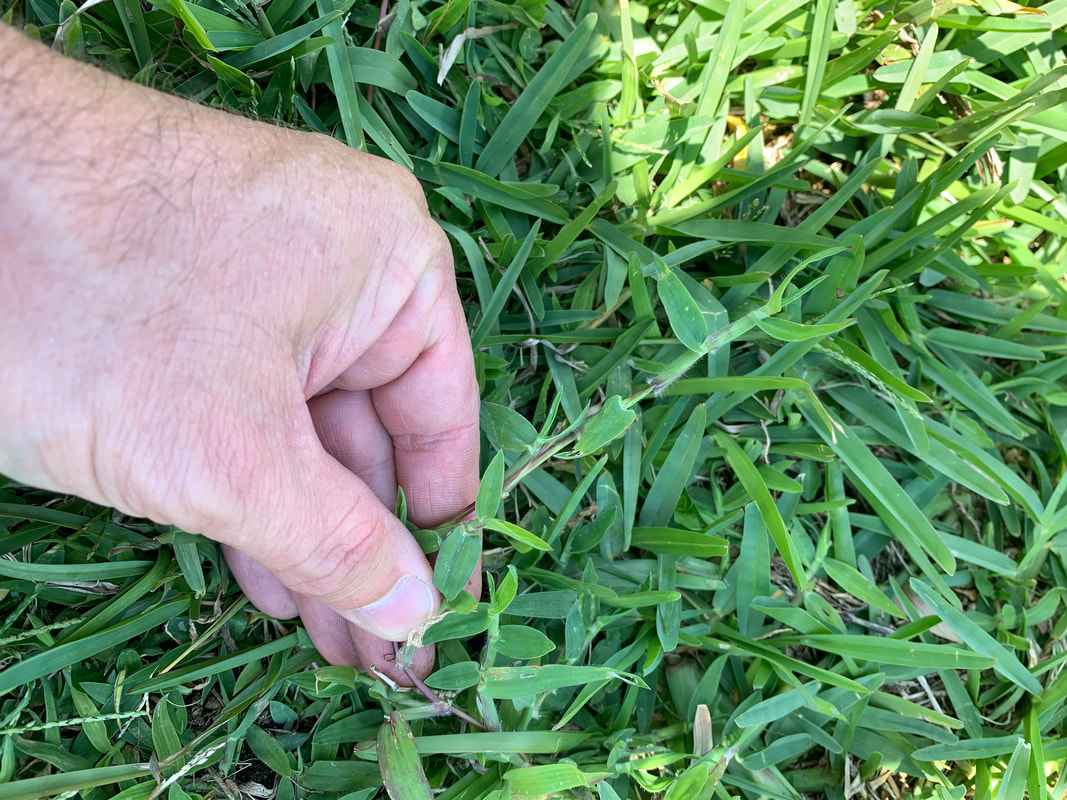crabgrass: (456, 227, 1005, 776), (209, 6, 591, 177)
